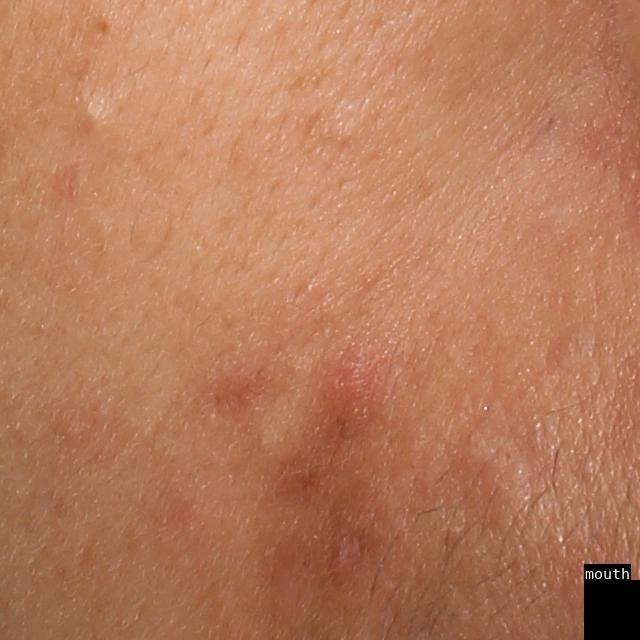comedo: (75, 96, 116, 140)
hypertrophic_scar: (468, 428, 539, 530)
papule: (318, 340, 403, 439)
